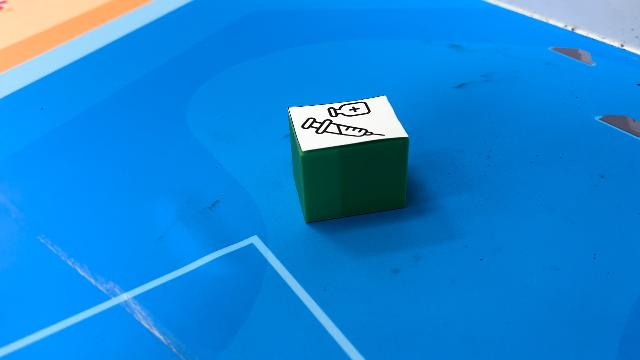syringe: (290, 95, 410, 227)
